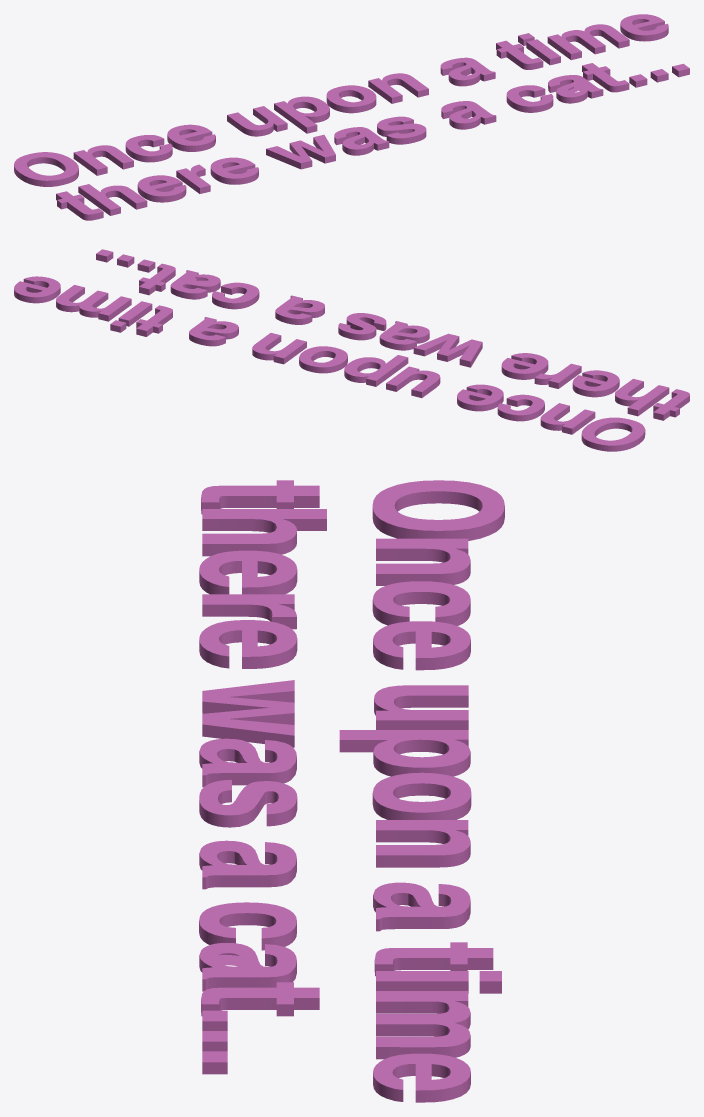
Rendered from once.obj.
The picture shows the model from 3 angles, top to bottom: view 1: azimuth 30°, elevation 25°; view 2: azimuth 150°, elevation 25°; view 3: azimuth 270°, elevation 25°; orthographic projection. The views are drawn at different scales.
Parts seen in each view (by area): view 1: Once_upon_a_time.012_ID78, Once_upon_a_time.019_ID120, Once_upon_a_time_ID4, Once_upon_a_time.015_ID96, Once_upon_a_time.005_ID36, Once_upon_a_time.024_ID150, Once_upon_a_time.021_ID132, Once_upon_a_time.007_ID48, Once_upon_a_time.008_ID54, Once_upon_a_time.004_ID30, Once_upon_a_time.001_ID12, Once_upon_a_time.022_ID138 (+13 smaller); view 2: Once_upon_a_time.012_ID78, Once_upon_a_time.019_ID120, Once_upon_a_time_ID4, Once_upon_a_time.005_ID36, Once_upon_a_time.015_ID96, Once_upon_a_time.024_ID150, Once_upon_a_time.021_ID132, Once_upon_a_time.020_ID126, Once_upon_a_time.016_ID102, Once_upon_a_time.001_ID12, Once_upon_a_time.008_ID54, Once_upon_a_time.007_ID48 (+13 smaller); view 3: Once_upon_a_time.012_ID78, Once_upon_a_time.019_ID120, Once_upon_a_time_ID4, Once_upon_a_time.015_ID96, Once_upon_a_time.007_ID48, Once_upon_a_time.005_ID36, Once_upon_a_time.001_ID12, Once_upon_a_time.004_ID30, Once_upon_a_time.024_ID150, Once_upon_a_time.021_ID132, Once_upon_a_time.022_ID138, Once_upon_a_time.008_ID54 (+14 smaller).
Part boxes in pixels (x1,y1,x2,y2): Once_upon_a_time.012_ID78: (547,24,629,60); Once_upon_a_time.019_ID120: (266,134,335,169); Once_upon_a_time_ID4: (14,152,78,186); Once_upon_a_time.015_ID96: (78,184,147,215); Once_upon_a_time.005_ID36: (274,96,329,133); Once_upon_a_time.024_ID150: (548,75,603,103); Once_upon_a_time.021_ID132: (377,116,426,144); Once_upon_a_time.007_ID48: (368,73,428,103); Once_upon_a_time.008_ID54: (440,57,495,86); Once_upon_a_time.004_ID30: (227,106,287,136); Once_upon_a_time.001_ID12: (73,145,133,175); Once_upon_a_time.022_ID138: (441,101,496,129); Once_upon_a_time.012_ID78: (56,285,131,321); Once_upon_a_time.019_ID120: (413,333,482,367); Once_upon_a_time_ID4: (581,417,645,451); Once_upon_a_time.005_ID36: (344,355,408,386); Once_upon_a_time.015_ID96: (615,378,669,416); Once_upon_a_time.024_ID150: (170,270,220,299); Once_upon_a_time.021_ID132: (338,313,386,340); Once_upon_a_time.020_ID126: (379,321,429,350); Once_upon_a_time.016_ID102: (572,370,619,397); Once_upon_a_time.001_ID12: (540,403,595,434); Once_upon_a_time.008_ID54: (189,317,238,346); Once_upon_a_time.007_ID48: (252,333,306,364); Once_upon_a_time.012_ID78: (376,991,470,1059); Once_upon_a_time.019_ID120: (202,680,294,747); Once_upon_a_time_ID4: (372,480,504,540); Once_upon_a_time.015_ID96: (202,509,326,556); Once_upon_a_time.007_ID48: (376,820,470,867); Once_upon_a_time.005_ID36: (339,730,470,776); Once_upon_a_time.001_ID12: (376,538,470,585); Once_upon_a_time.004_ID30: (374,685,468,729); Once_upon_a_time.024_ID150: (199,943,296,991); Once_upon_a_time.021_ID132: (199,779,297,827); Once_upon_a_time.022_ID138: (199,840,296,889); Once_upon_a_time.008_ID54: (373,882,470,931).
Bounding box in the file's own units: 108 × 1 × 22.86.
